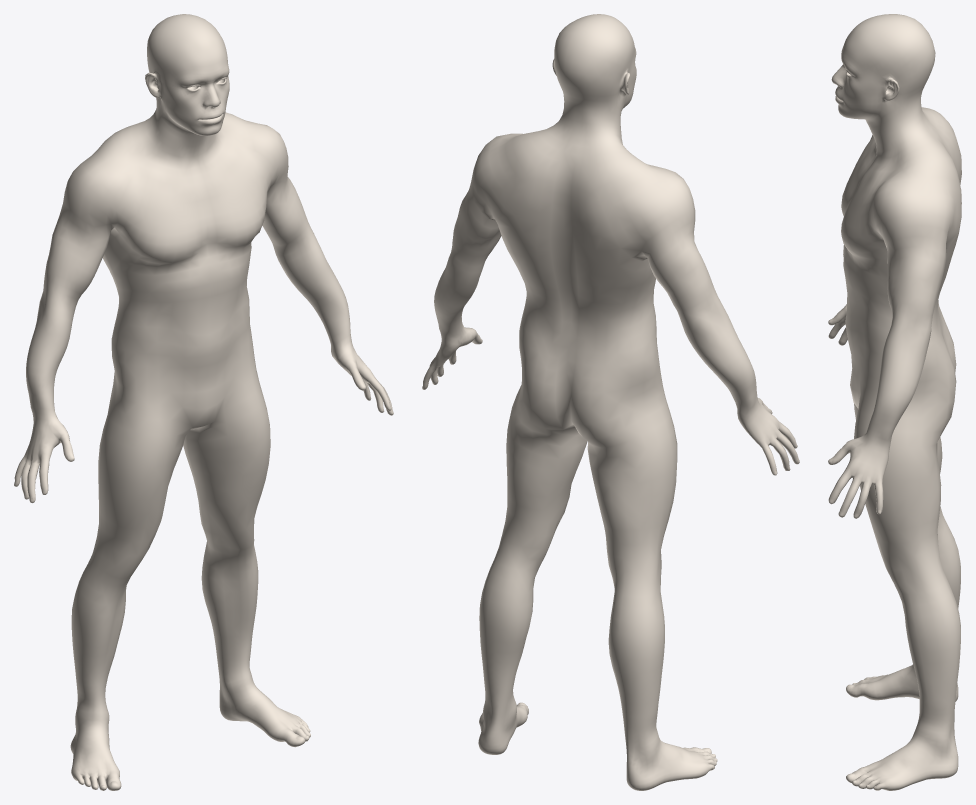
Rendered from body.glb.
The picture shows the model from 3 angles, left to right: view 1: azimuth 30°, elevation 25°; view 2: azimuth 150°, elevation 25°; view 3: azimuth 270°, elevation 25°; orthographic projection.
Parts seen in each view (by area): view 1: GEO-body_male_realistic; view 2: GEO-body_male_realistic; view 3: GEO-body_male_realistic.
Boxes of the visible parts, x1,y1,x2,y2 form: GEO-body_male_realistic: (14,14,393,790); GEO-body_male_realistic: (422,14,799,790); GEO-body_male_realistic: (828,14,961,790).
Bounding box in the file's own units: 0.9286 × 1.8 × 0.3019.
